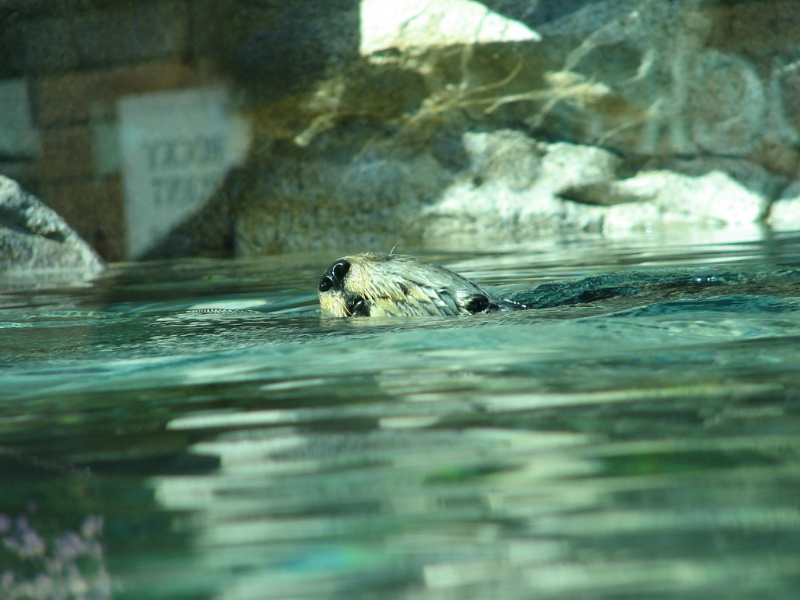minkish: (305, 248, 730, 316)
